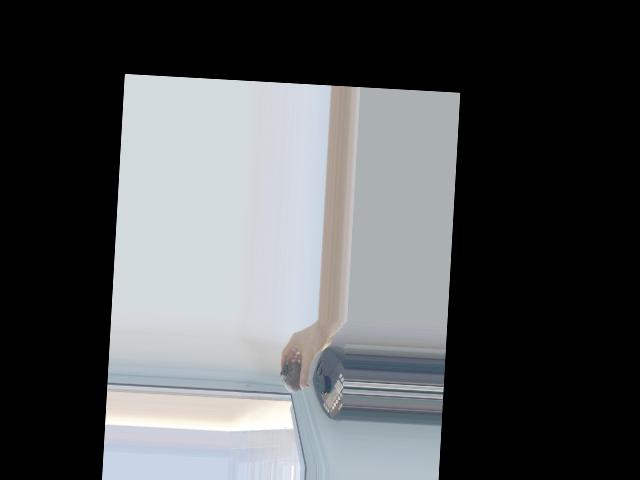beet: (279, 358, 311, 393)
